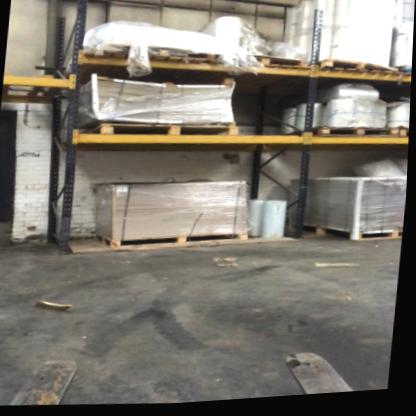vertical_damage: (57, 205, 82, 229)
